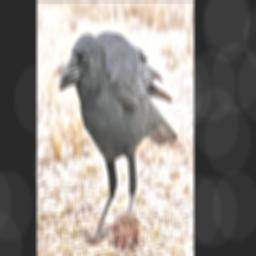Crow: (58, 32, 178, 245)
